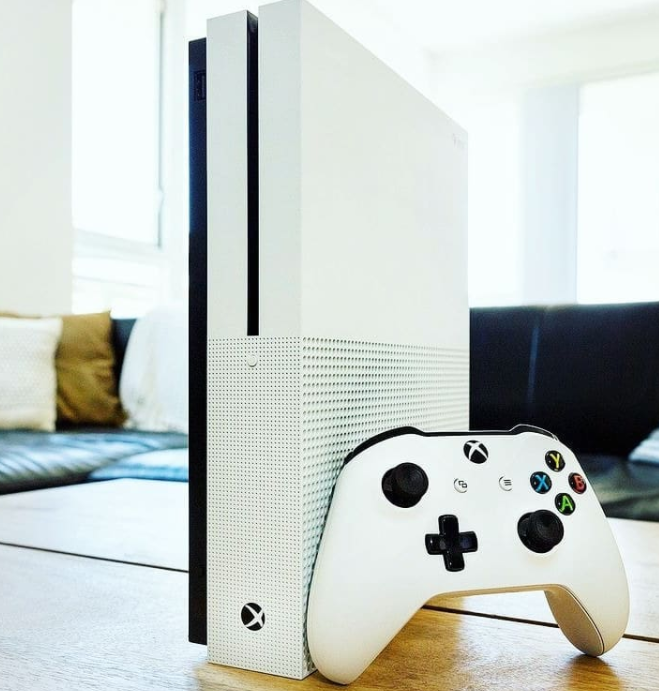gamingconsole: (310, 429, 629, 679)
